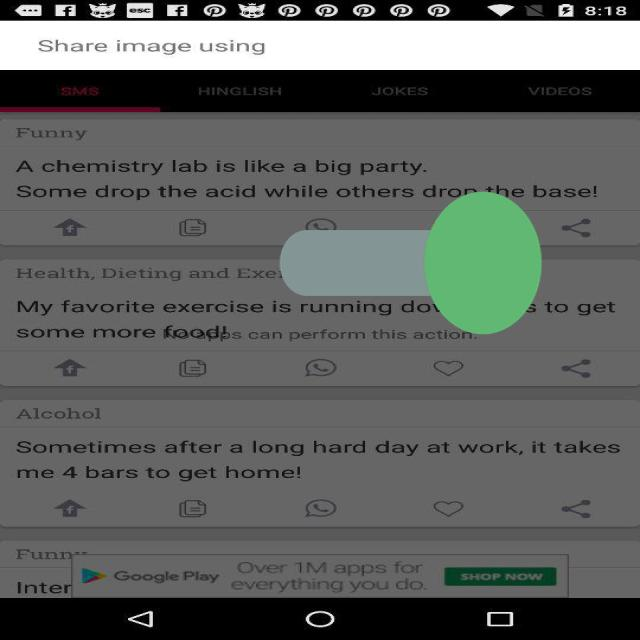social proof: (279, 104, 542, 422)
